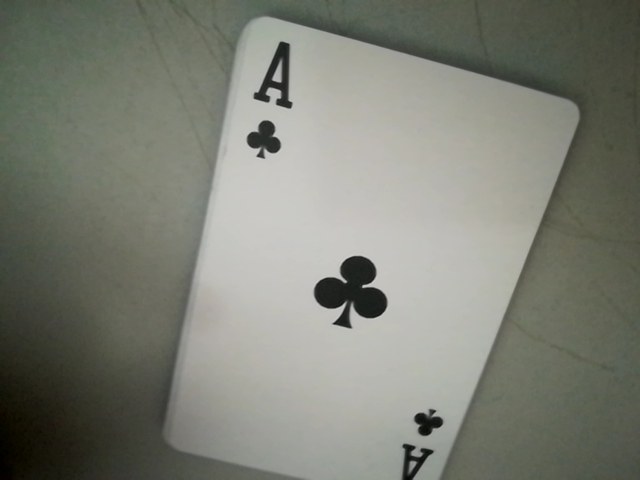mh a: (232, 31, 299, 170), (397, 402, 450, 480)
